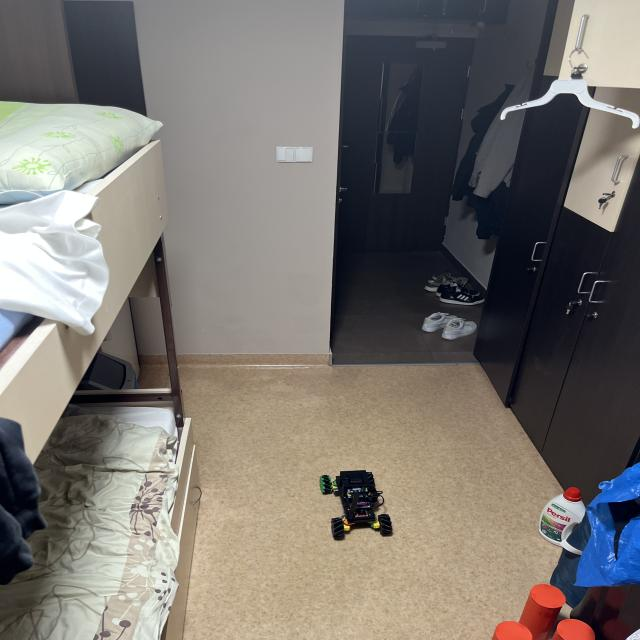robot: (320, 470, 392, 540)
